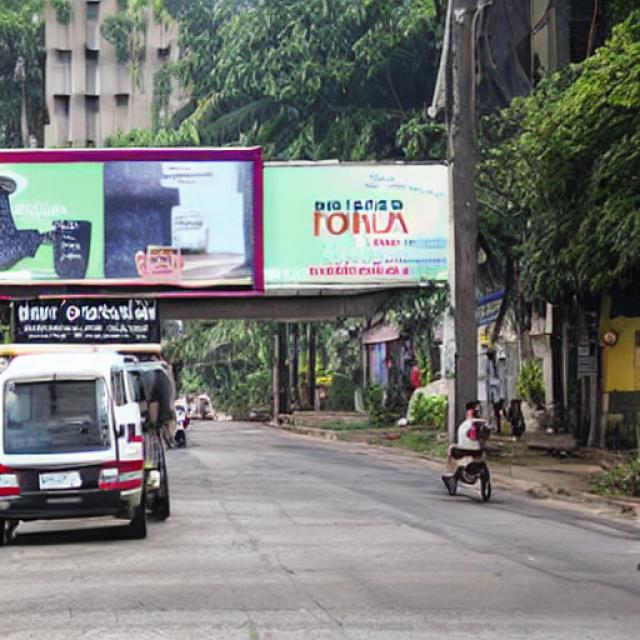Billboard: (0, 148, 456, 293)
